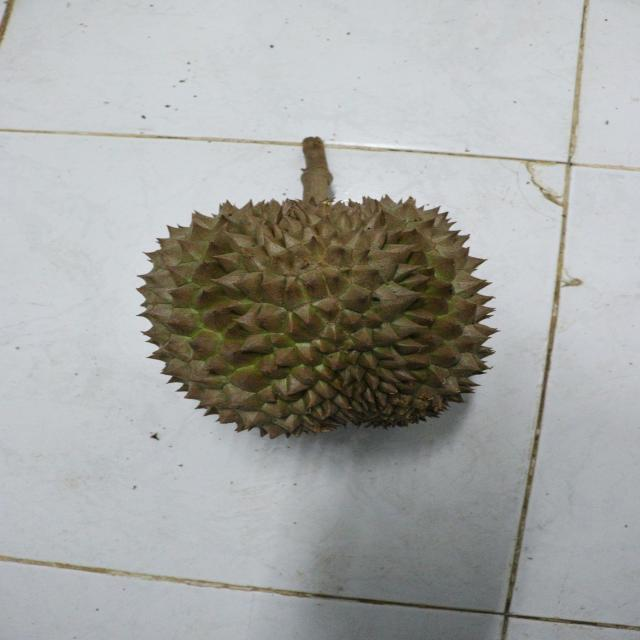mature: (135, 193, 511, 439)
